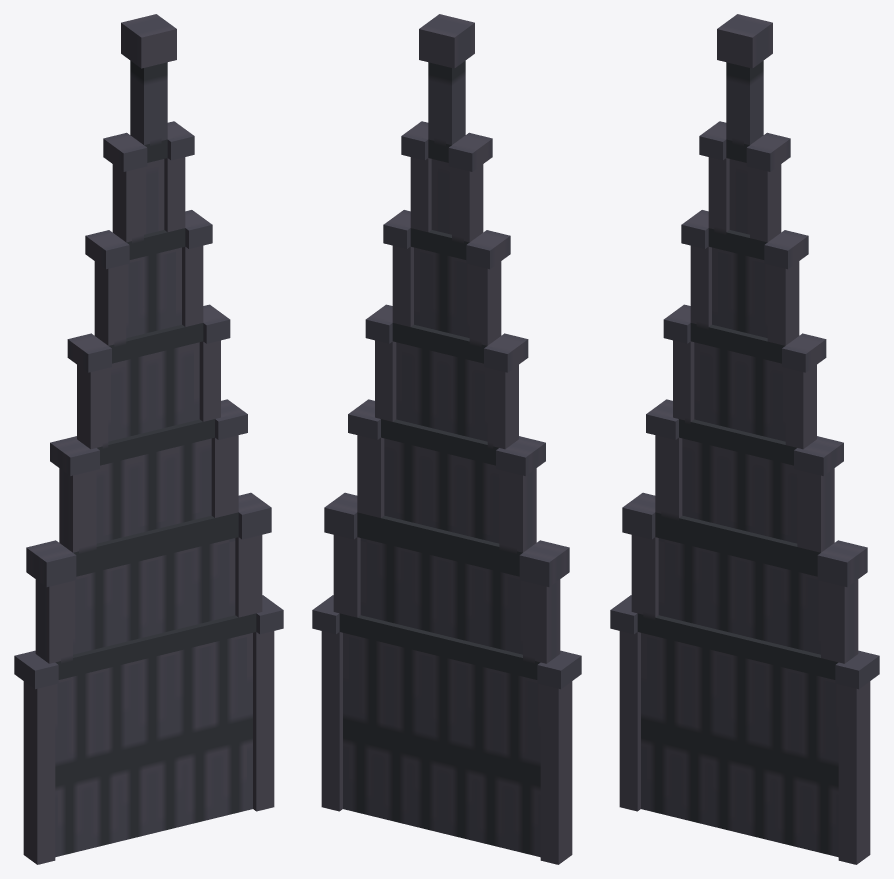
File: Roof_Panel-3.fbx
The picture shows the model from 3 angles, left to right: view 1: azimuth 30°, elevation 25°; view 2: azimuth 150°, elevation 25°; view 3: azimuth 330°, elevation 25°; orthographic projection.
Parts seen in each view (by area): view 1: Roof_Panel-3; view 2: Roof_Panel-3; view 3: Roof_Panel-3.
Boxes of the visible parts, bbox=[...] form: Roof_Panel-3: bbox=[14, 14, 283, 864]; Roof_Panel-3: bbox=[312, 14, 581, 864]; Roof_Panel-3: bbox=[610, 14, 879, 864].
Size of the model in its own units: 210 by 650 by 30.
